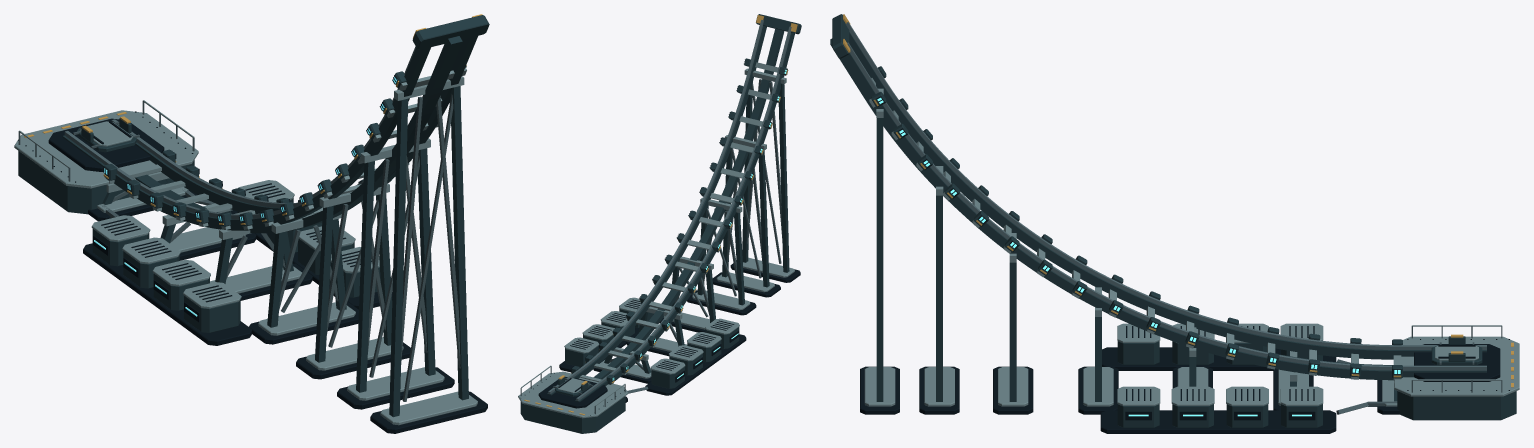
File: launcher_d0_lod0.meshopt.glb
The picture shows the model from 3 angles, left to right: view 1: azimuth 30°, elevation 25°; view 2: azimuth 150°, elevation 25°; view 3: azimuth 270°, elevation 25°; orthographic projection. The views are drawn at different scales.
Visible parts, largest first — view 1: LAUNCHER_STRUCTURE, CONTINUOUS_RAILS, SLED_BODY; view 2: LAUNCHER_STRUCTURE, CONTINUOUS_RAILS, SLED_BODY; view 3: LAUNCHER_STRUCTURE, CONTINUOUS_RAILS, SLED_BODY, ACCELERATOR_LIGHTS.
Boxes of the visible parts, bbox=[...] form: LAUNCHER_STRUCTURE: bbox=[14, 14, 489, 433]; CONTINUOUS_RAILS: bbox=[64, 46, 416, 219]; SLED_BODY: bbox=[73, 121, 139, 152]; LAUNCHER_STRUCTURE: bbox=[518, 14, 801, 433]; CONTINUOUS_RAILS: bbox=[548, 20, 791, 400]; SLED_BODY: bbox=[553, 378, 593, 396]; LAUNCHER_STRUCTURE: bbox=[830, 14, 1519, 433]; CONTINUOUS_RAILS: bbox=[845, 22, 1486, 370]; SLED_BODY: bbox=[1431, 342, 1482, 365]; ACCELERATOR_LIGHTS: bbox=[877, 97, 1400, 416].
Size of the model in its own units: 13.1 by 27 by 46.23.
